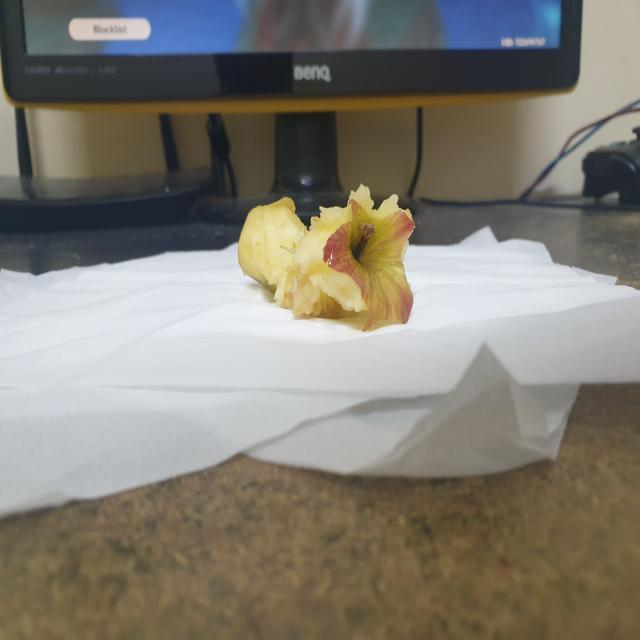apple: (231, 176, 423, 338)
